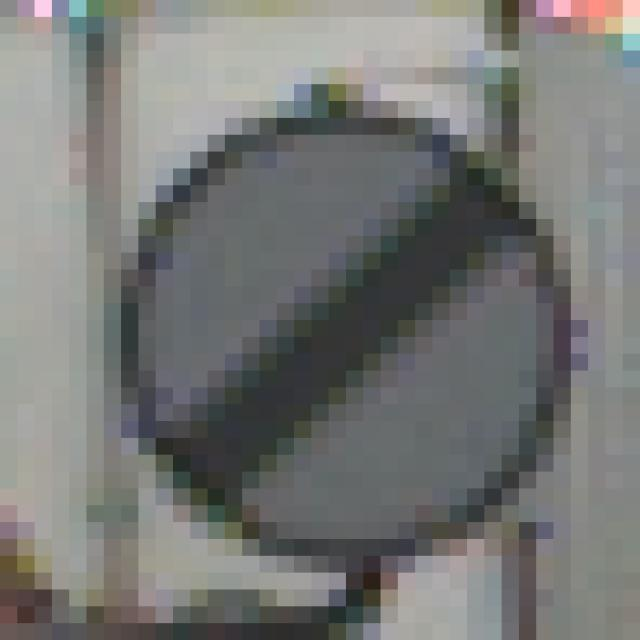restriction ends: (112, 102, 581, 572)
